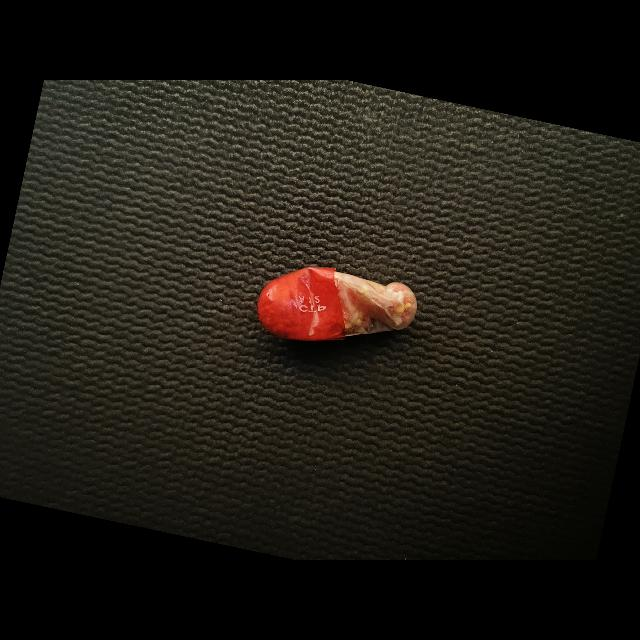Defective Capsule: (258, 267, 417, 341)
